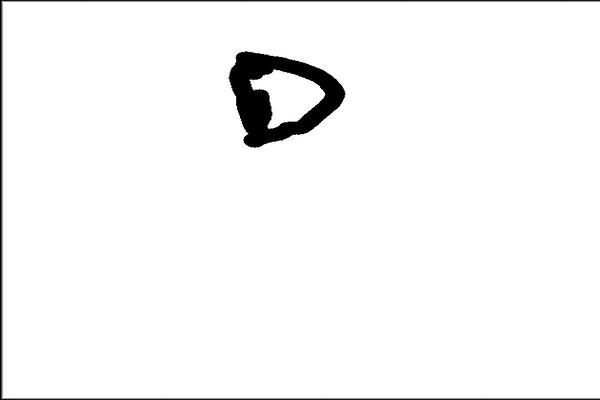D: (223, 40, 348, 150)
